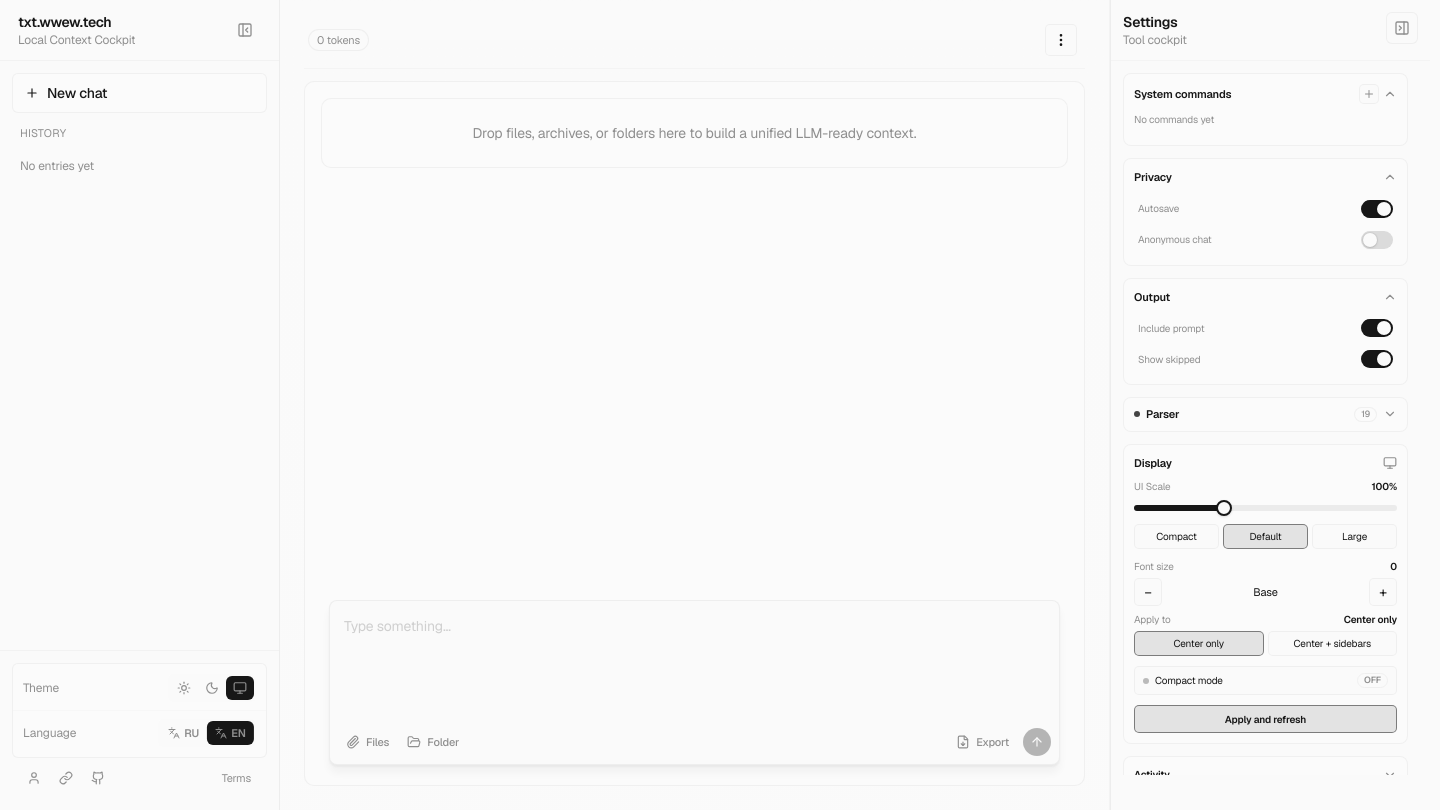
Display section › Compact preset sets scale to 90%
Click the button "Compact" at (1176, 536), box left=1134, top=524, right=1219, bottom=549
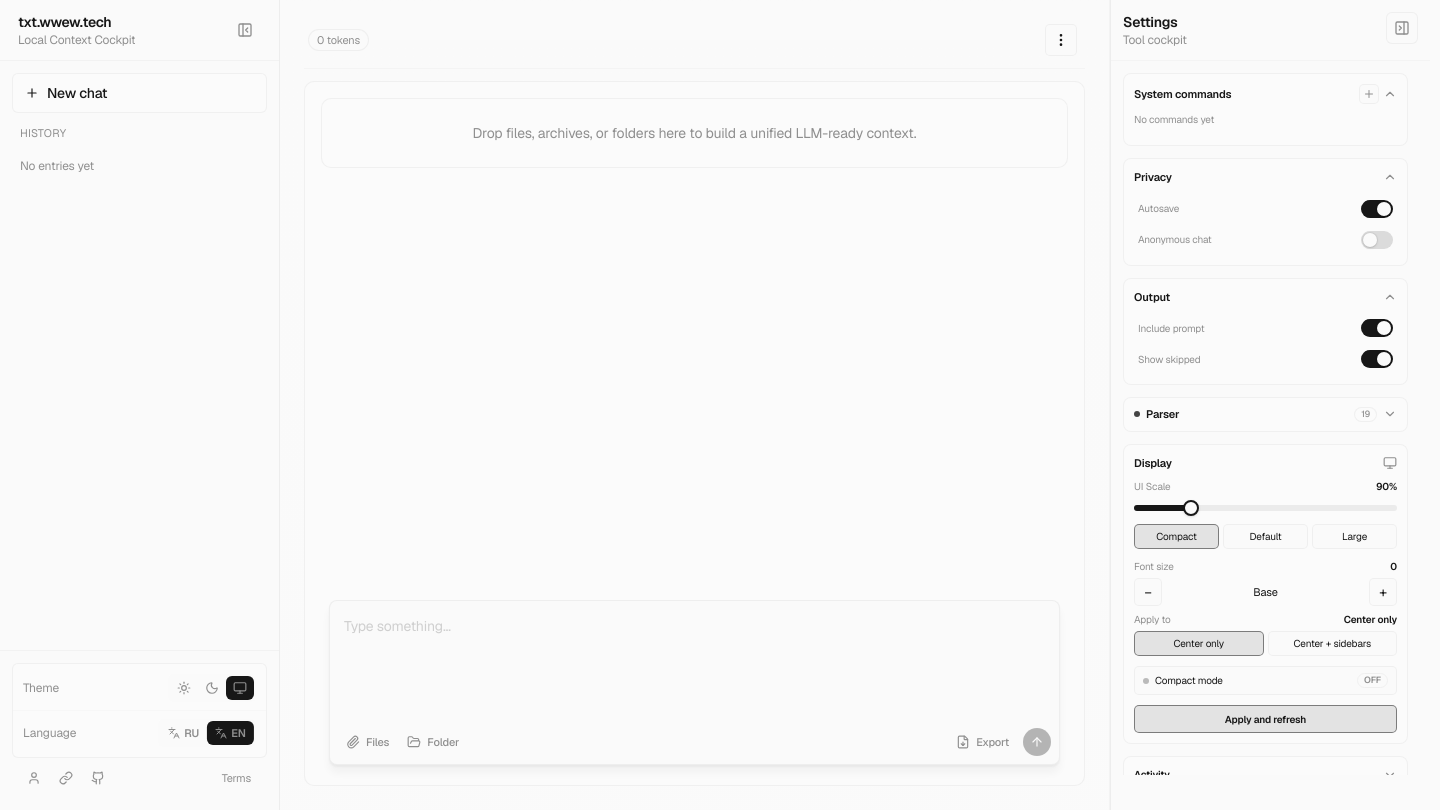
Expected: the text "90%" is shown, left=1376, top=479, right=1397, bottom=494
